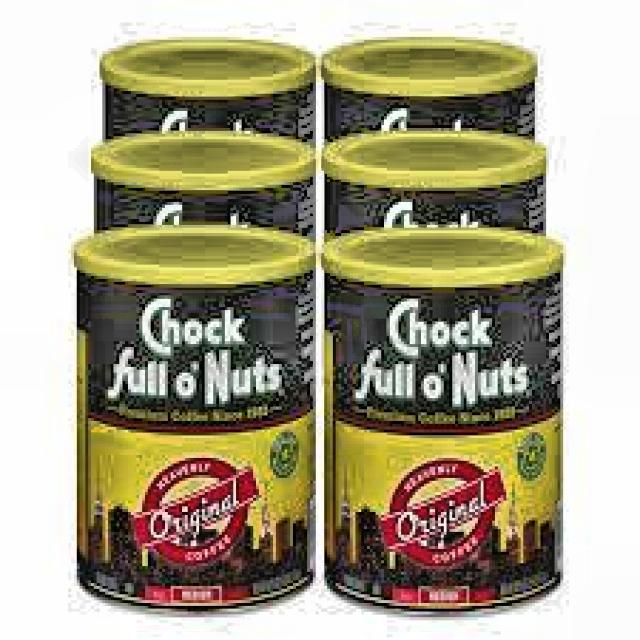can: (66, 222, 327, 619), (321, 221, 572, 622), (88, 128, 321, 255), (320, 124, 554, 250), (93, 32, 319, 154), (319, 28, 541, 146)
